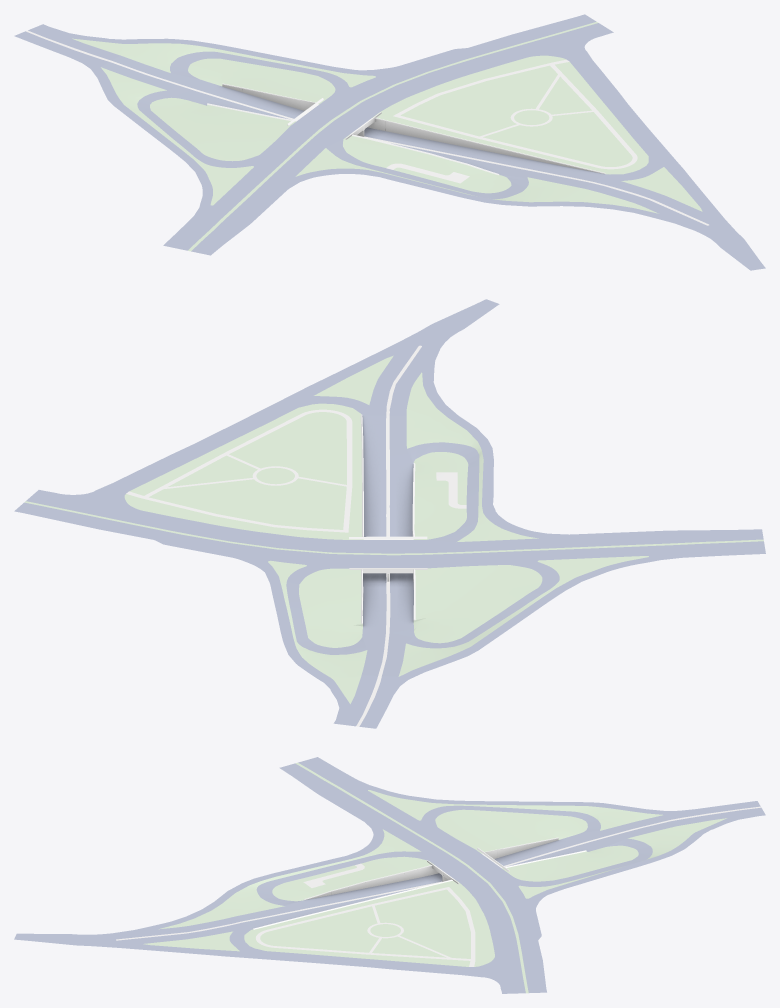
File: Al-Zharokova.glb
3 renders of one model, top to bottom at view 1: azimuth 30°, elevation 25°; view 2: azimuth 150°, elevation 25°; view 3: azimuth 270°, elevation 25°, orthographic. The views are drawn at different scales.
Visible parts, largest first — view 1: group_11, group_12, group_10.003, group_14, group_7, group_15; view 2: group_11, group_12, group_14, group_10.003; view 3: group_11, group_12, group_10.003, group_14.
Boxes of the visible parts, x1,y1,x2,y2 form: group_11: [14, 14, 765, 270]; group_12: [72, 21, 702, 251]; group_10.003: [207, 83, 605, 175]; group_14: [393, 59, 637, 169]; group_7: [364, 136, 592, 182]; group_15: [386, 163, 469, 183]; group_11: [14, 299, 765, 728]; group_12: [24, 355, 763, 703]; group_14: [126, 409, 352, 532]; group_10.003: [349, 414, 427, 624]; group_11: [14, 757, 765, 993]; group_12: [143, 762, 726, 993]; group_10.003: [253, 837, 586, 929]; group_14: [256, 887, 475, 966].
Size of the model in its own units: 387 by 8 by 519.
4 materials, 2 textured.
